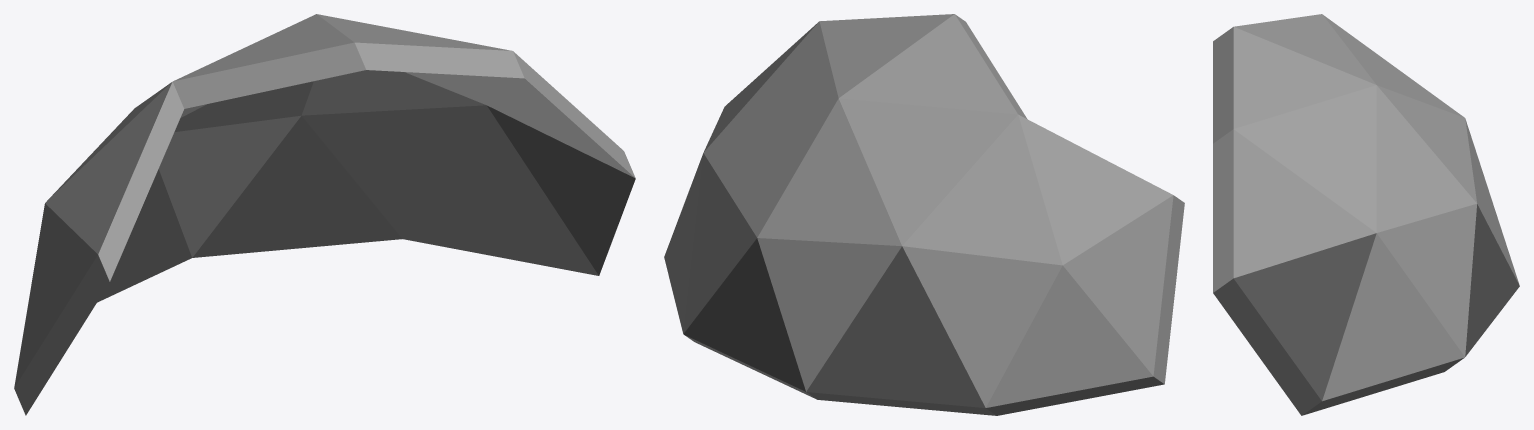
Rendered from TargetDebris_2.fbx.
The picture shows the model from 3 angles, left to right: view 1: azimuth 30°, elevation 25°; view 2: azimuth 150°, elevation 25°; view 3: azimuth 270°, elevation 25°; orthographic projection. The views are drawn at different scales.
Visible parts, largest first — view 1: Cube; view 2: Cube; view 3: Cube.
Part boxes in pixels (bbox=[...]): Cube: bbox=[14, 14, 635, 415]; Cube: bbox=[664, 14, 1184, 415]; Cube: bbox=[1213, 14, 1519, 415].
Size of the model in its own units: 508 by 282 by 286.
